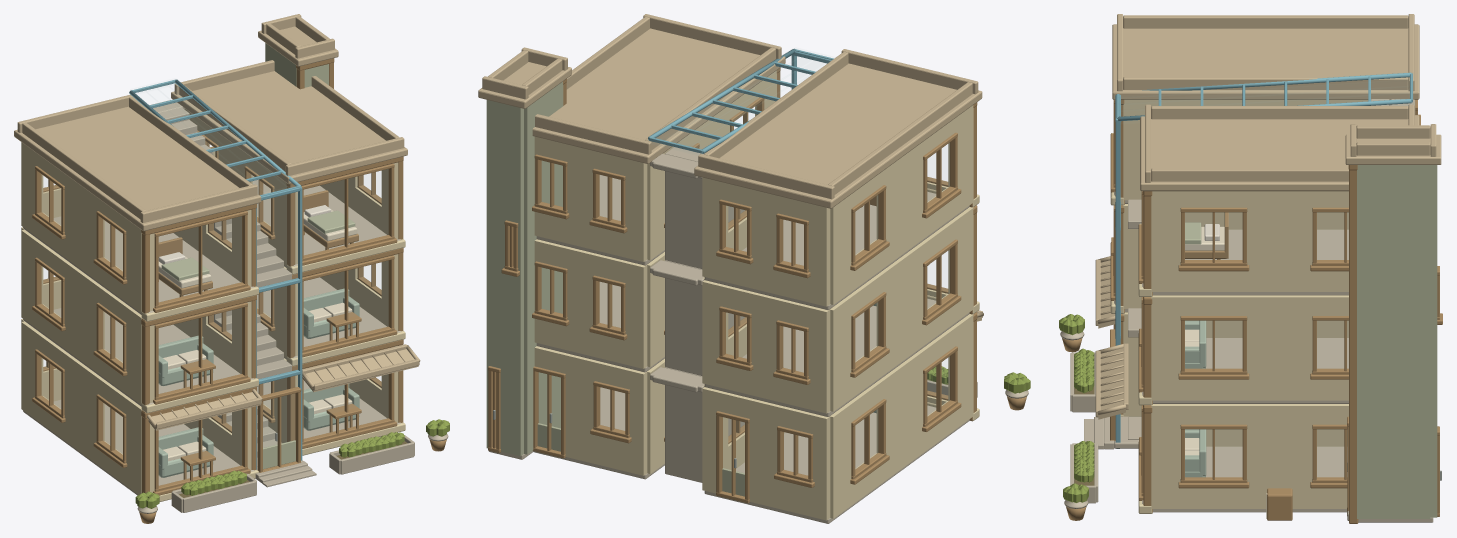
File: 16-A-bddced57e2dd.glb
3 views of the same model, side by side, from view 1: azimuth 30°, elevation 25°; view 2: azimuth 150°, elevation 25°; view 3: azimuth 270°, elevation 25° (orthographic). The views are drawn at different scales.
Parts seen in each view (by area): view 1: SM_16_01_建筑墙体, SM_16_02_曲面屋顶, SM_16_04_门窗楼梯, SM_16_06_景观设施, SM_16_03_木构回廊, SM_16_05_景观植物; view 2: SM_16_01_建筑墙体, SM_16_02_曲面屋顶, SM_16_04_门窗楼梯, SM_16_03_木构回廊, SM_16_05_景观植物; view 3: SM_16_01_建筑墙体, SM_16_02_曲面屋顶, SM_16_04_门窗楼梯, SM_16_03_木构回廊, SM_16_06_景观设施, SM_16_05_景观植物.
Part boxes in pixels (<box>): SM_16_01_建筑墙体: <box>21,43,405,501</box>; SM_16_02_曲面屋顶: <box>14,14,420,430</box>; SM_16_04_门窗楼梯: <box>32,79,397,495</box>; SM_16_06_景观设施: <box>158,190,361,481</box>; SM_16_03_木构回廊: <box>141,58,403,492</box>; SM_16_05_景观植物: <box>135,419,449,523</box>; SM_16_01_建筑墙体: <box>486,70,979,523</box>; SM_16_02_曲面屋顶: <box>478,14,983,321</box>; SM_16_04_门窗楼梯: <box>488,48,961,503</box>; SM_16_03_木构回廊: <box>563,67,977,421</box>; SM_16_05_景观植物: <box>927,366,1030,410</box>; SM_16_01_建筑墙体: <box>1110,99,1437,522</box>; SM_16_02_曲面屋顶: <box>1095,14,1441,419</box>; SM_16_04_门窗楼梯: <box>1084,72,1442,516</box>; SM_16_03_木构回廊: <box>1115,99,1358,523</box>; SM_16_06_景观设施: <box>1111,212,1292,520</box>; SM_16_05_景观植物: <box>1059,314,1098,520</box>.
Size of the model in its own units: 10.85 by 10.5 by 9.61.
